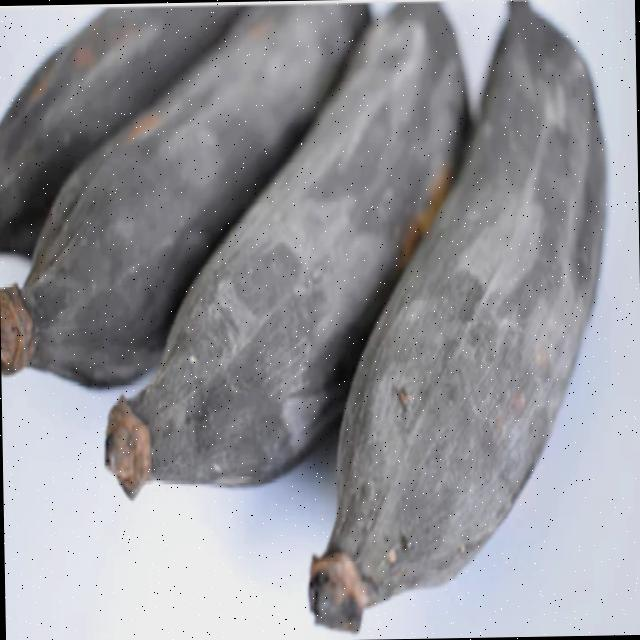rotten banana: (6, 18, 619, 640)
